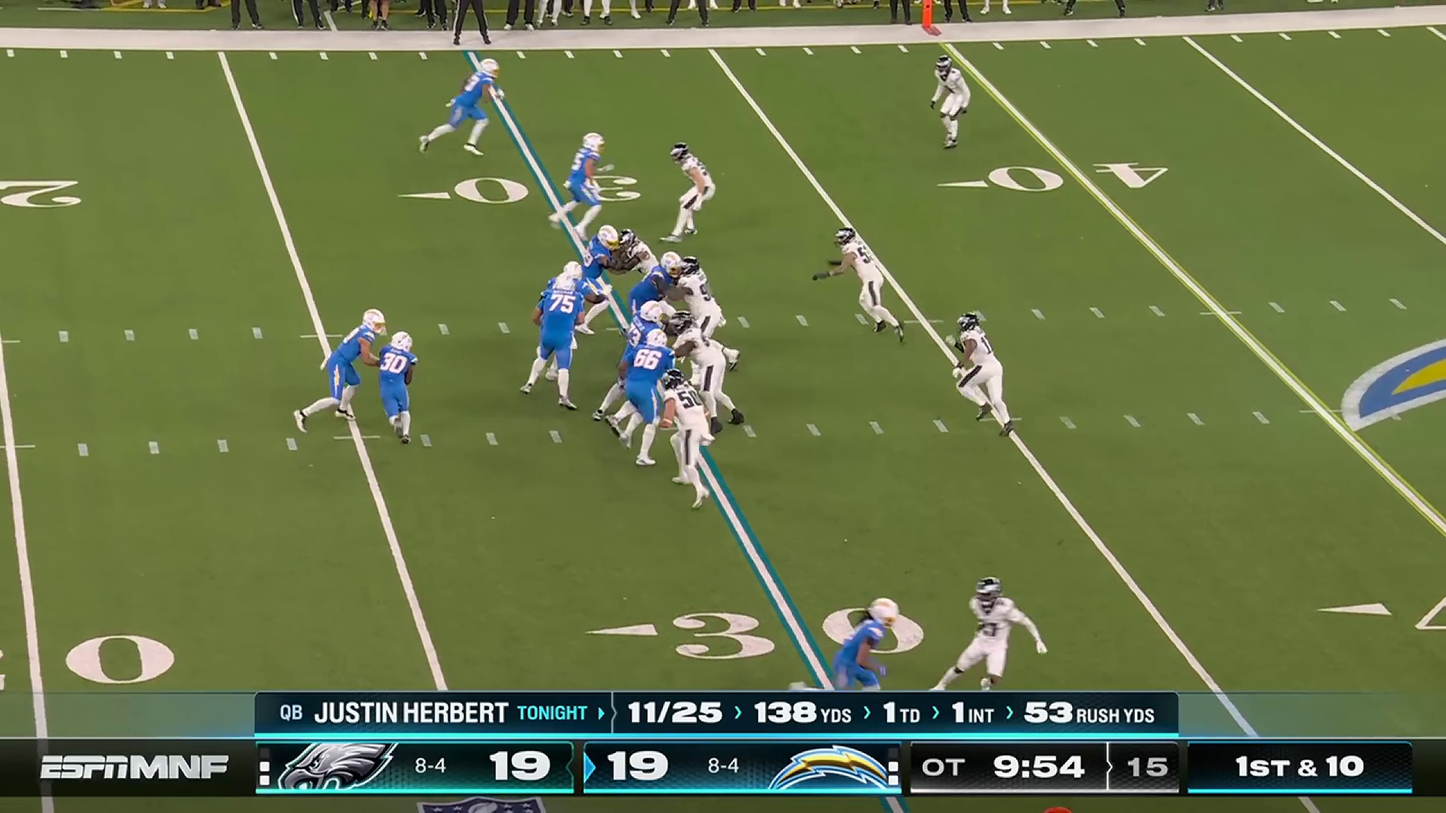player: (956, 575, 1031, 700), (946, 311, 1016, 428), (830, 220, 897, 342), (678, 319, 739, 433), (833, 596, 890, 709), (678, 257, 737, 359), (372, 332, 420, 447), (448, 56, 500, 158), (540, 275, 579, 407), (663, 371, 705, 490), (326, 317, 367, 438), (927, 52, 976, 152), (670, 145, 719, 243), (564, 127, 606, 234), (584, 223, 614, 356), (625, 295, 656, 422), (635, 330, 664, 462), (553, 259, 593, 342), (621, 229, 660, 304), (640, 255, 675, 333)
